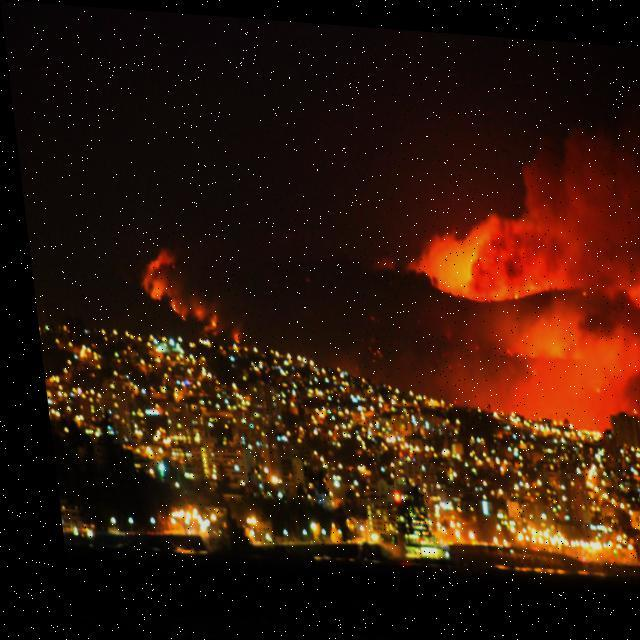Fire: (126, 239, 183, 318), (184, 294, 212, 332), (224, 326, 232, 340), (634, 292, 639, 305)
